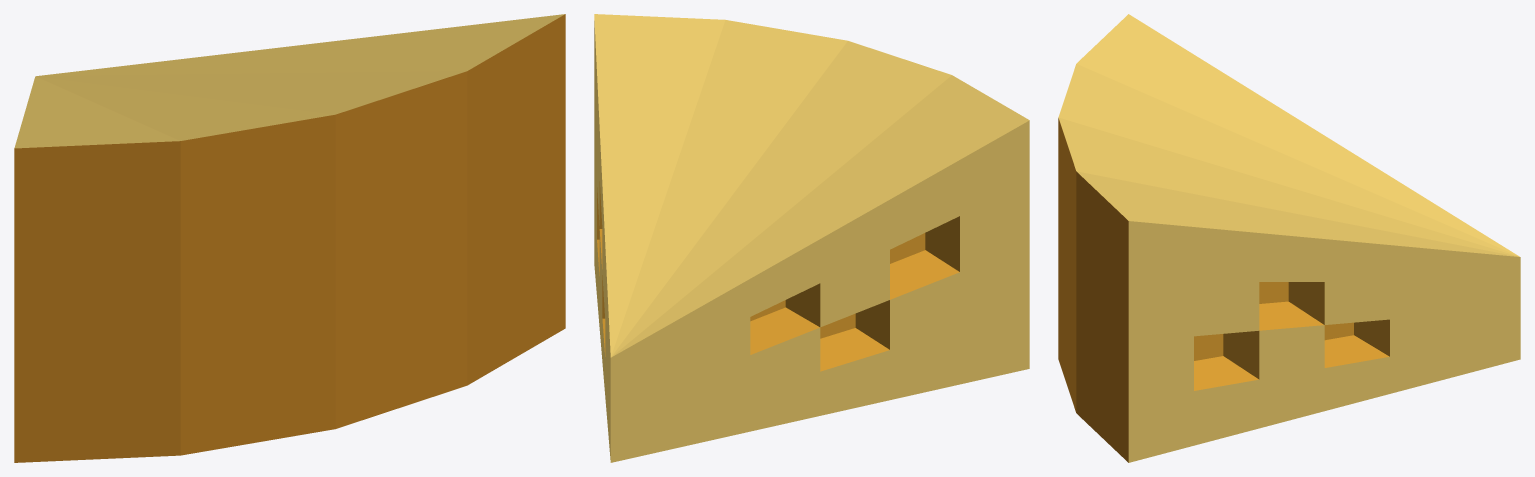
File: FD_CheeseWedge_01.glb
3 views of the same model, side by side, from view 1: azimuth 30°, elevation 25°; view 2: azimuth 150°, elevation 25°; view 3: azimuth 270°, elevation 25° (orthographic). The views are drawn at different scales.
Parts seen in each view (by area): view 1: FD_CheeseWedge_01; view 2: FD_CheeseWedge_01; view 3: FD_CheeseWedge_01.
Boxes of the visible parts, box(x1,y1,x2,y2) form: FD_CheeseWedge_01: box(14, 14, 565, 462); FD_CheeseWedge_01: box(594, 14, 1029, 462); FD_CheeseWedge_01: box(1058, 14, 1520, 462).
Size of the model in its own units: 0.0954 by 0.052 by 0.09.
Materials: 1 (1 with a texture image).
